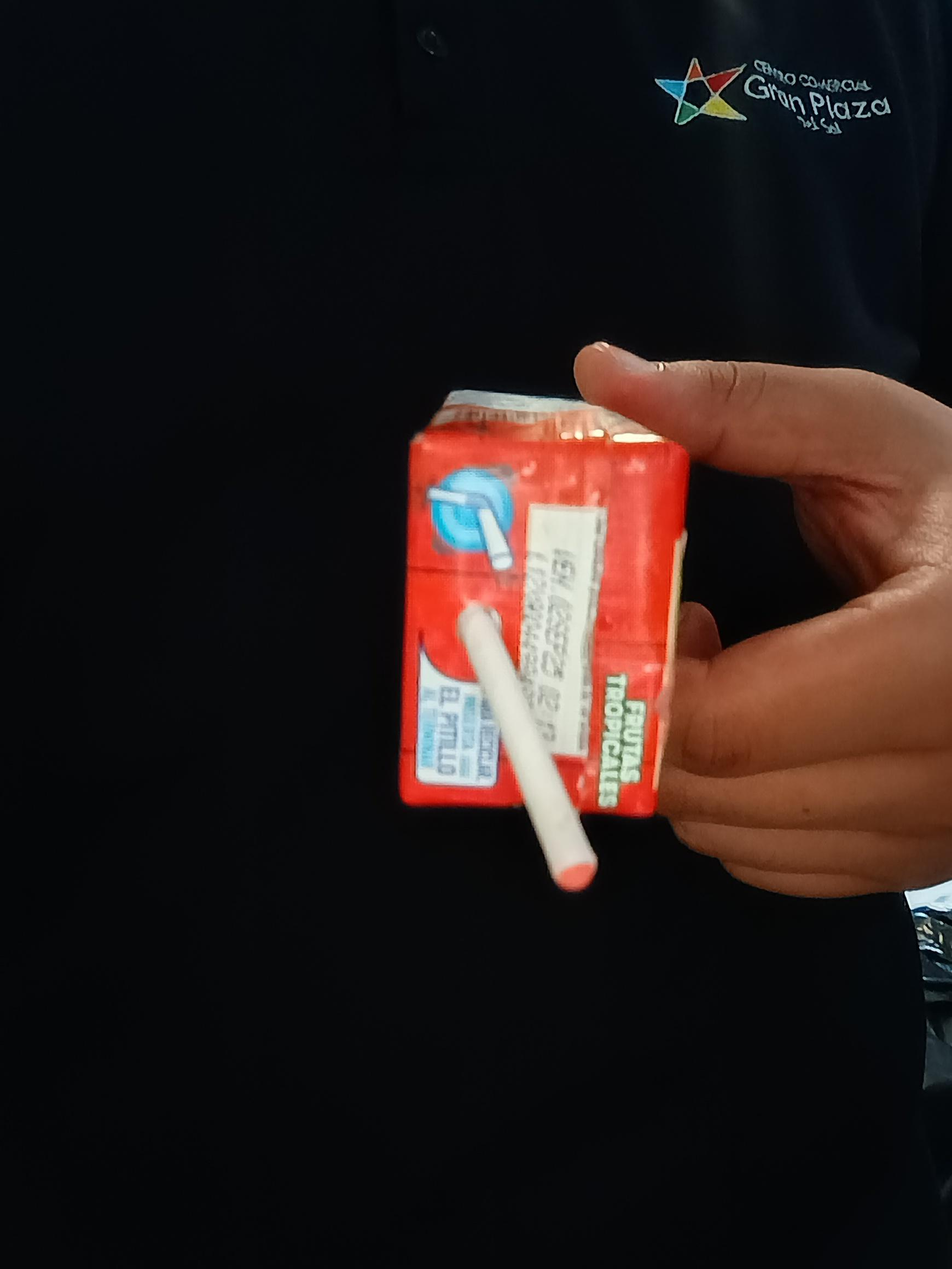Carton: (397, 386, 690, 819)
